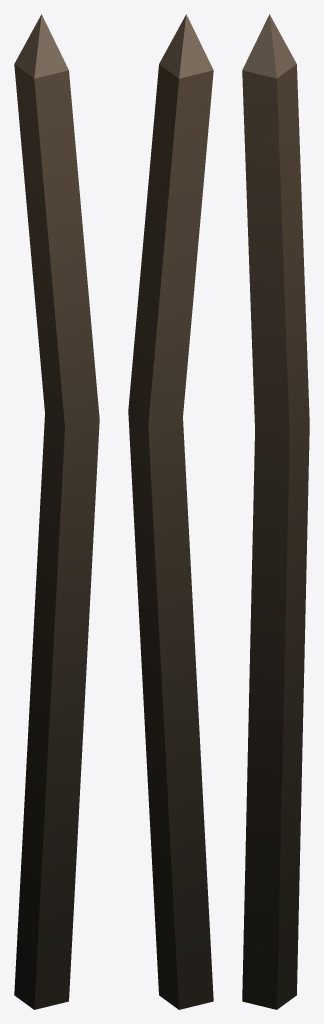
File: SD_Env_Goblin_SpikeBeam_02.fbx
The picture shows the model from 3 angles, left to right: view 1: azimuth 30°, elevation 25°; view 2: azimuth 210°, elevation 25°; view 3: azimuth 330°, elevation 25°; orthographic projection.
Parts seen in each view (by area): view 1: SD_Env_Goblin_SpikeBeam_02; view 2: SD_Env_Goblin_SpikeBeam_02; view 3: SD_Env_Goblin_SpikeBeam_02.
Boxes of the visible parts, box(x1,y1,x2,y2) form: SD_Env_Goblin_SpikeBeam_02: box(14, 14, 99, 1009); SD_Env_Goblin_SpikeBeam_02: box(128, 14, 213, 1009); SD_Env_Goblin_SpikeBeam_02: box(242, 14, 309, 1009).
Bounding box in the file's own units: 1.01 × 16.9 × 0.9014.
